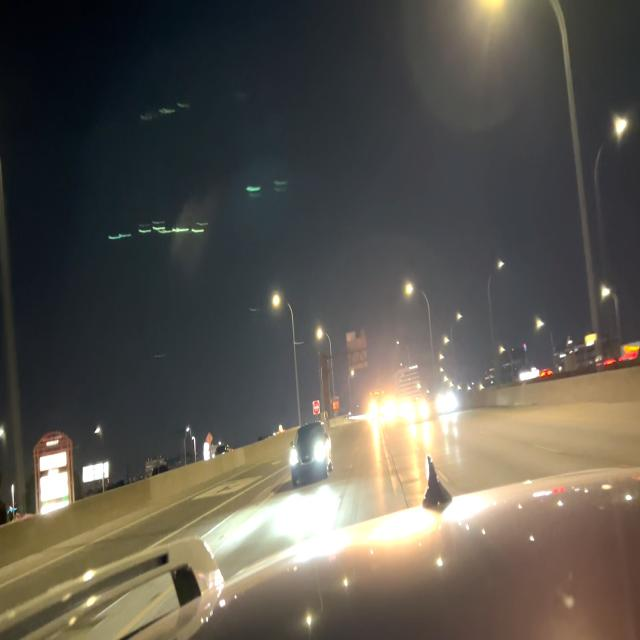back-of-sign: (345, 326, 369, 374)
